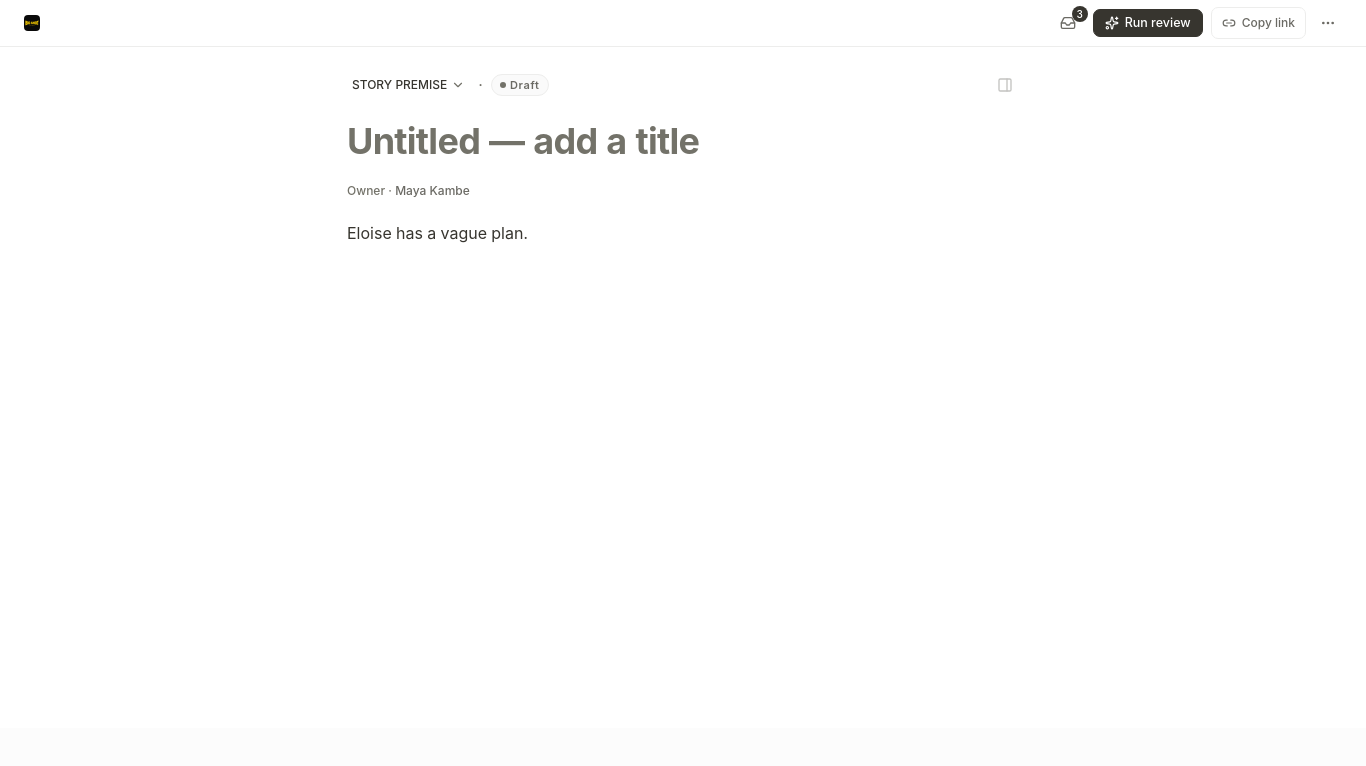
Scenario: DocumentPage apply (AI rewrite) — accept / discard › Discard restores the pre-apply body and clears the decision bar
Click the button "Run review". click: (1148, 23)
box: top-left (1093, 9), bottom-right (1203, 37)
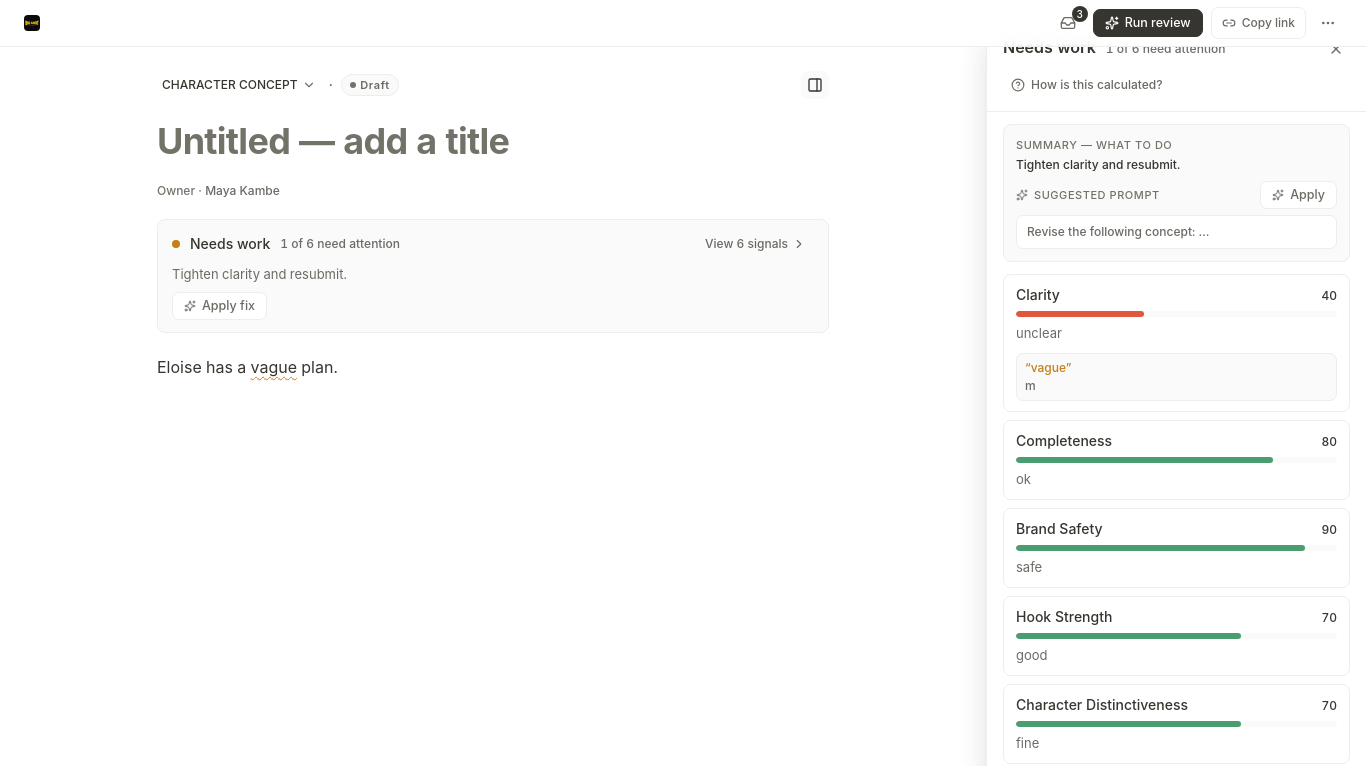
Click the button with aria-label "apply suggested prompt". click: (1299, 195)
box: top-left (1260, 181), bottom-right (1337, 209)
(page scrolled)
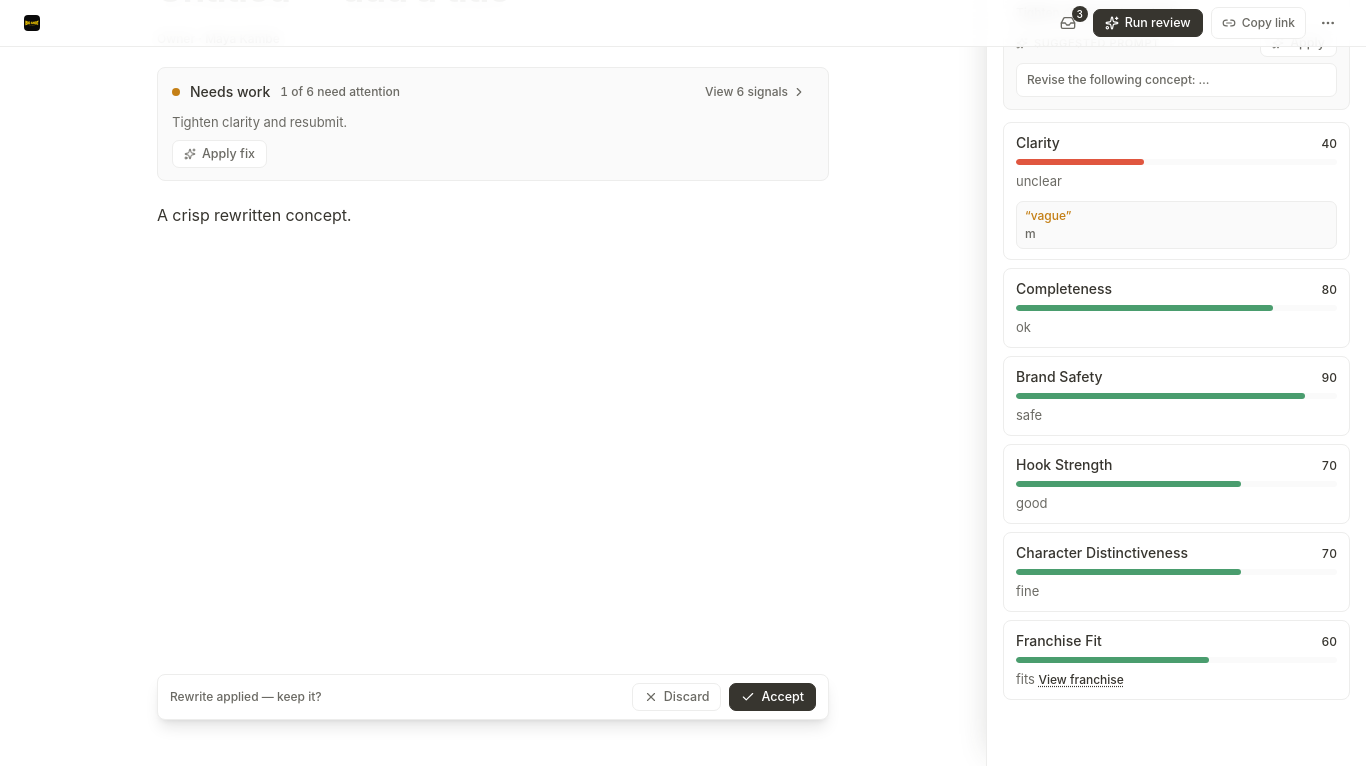
Click the button "Discard". click: (677, 697)
box: top-left (632, 683), bottom-right (722, 711)
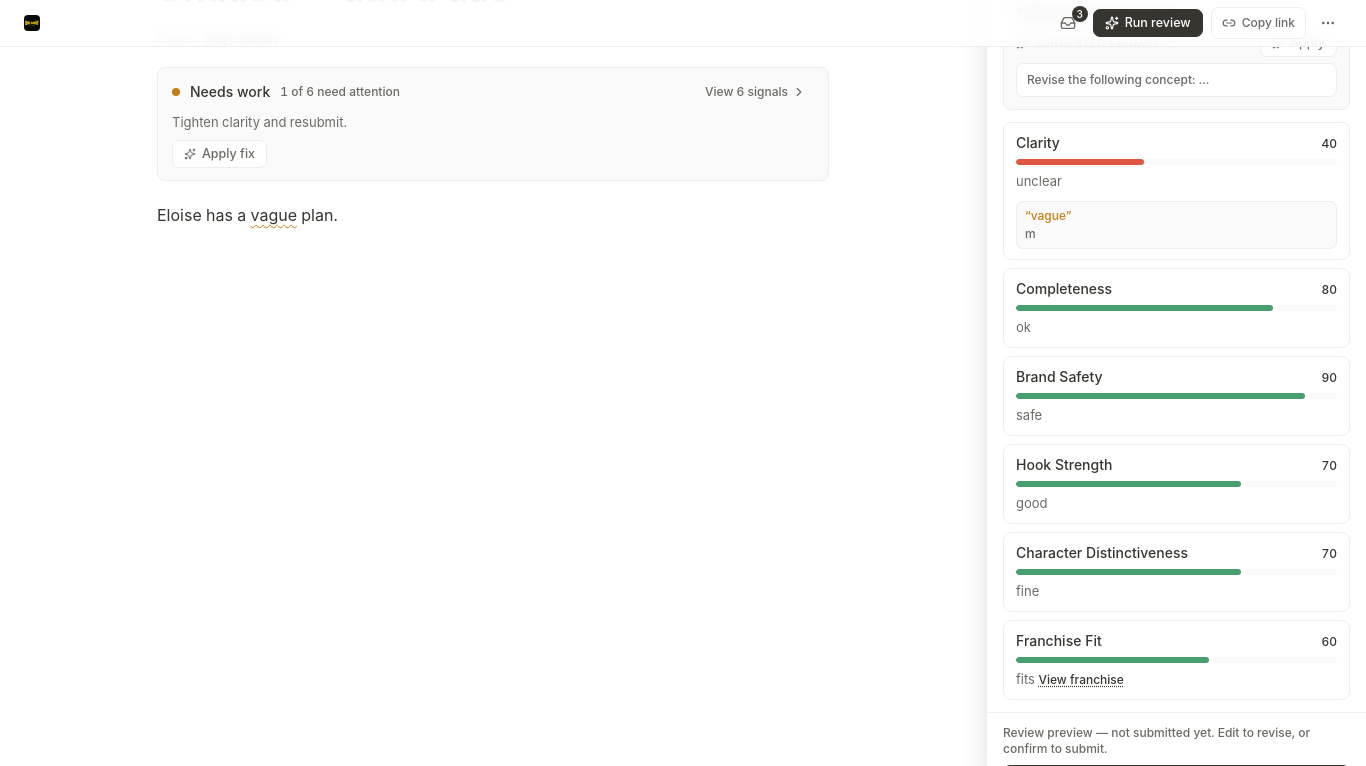
Expected: the button "Discard" is gone
